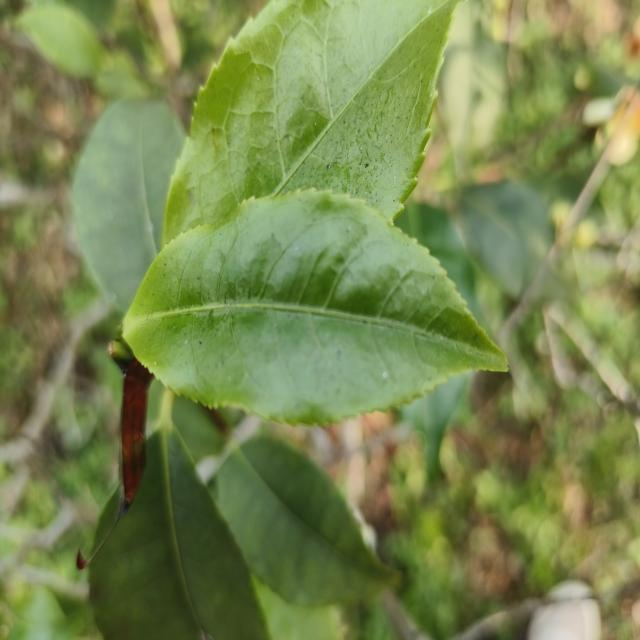Leaf: (123, 190, 507, 425), (164, 0, 456, 242), (89, 426, 269, 640), (216, 435, 395, 605), (72, 99, 185, 313), (459, 181, 552, 298), (396, 204, 480, 319), (401, 373, 470, 479), (15, 5, 104, 77)
